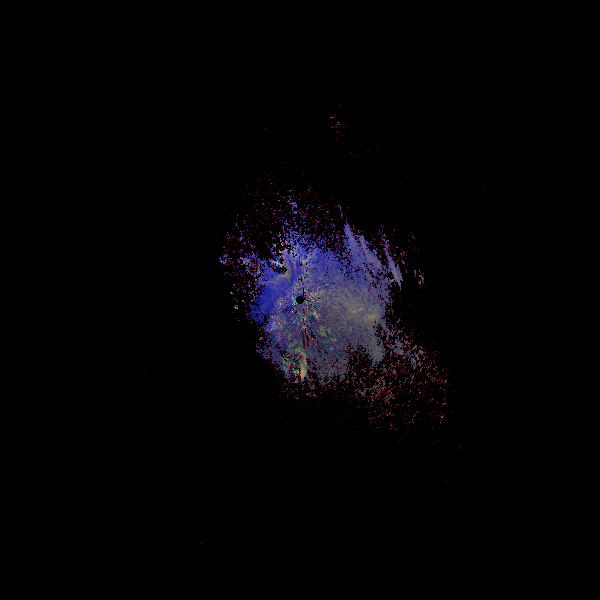roost: (289, 362, 310, 383)
